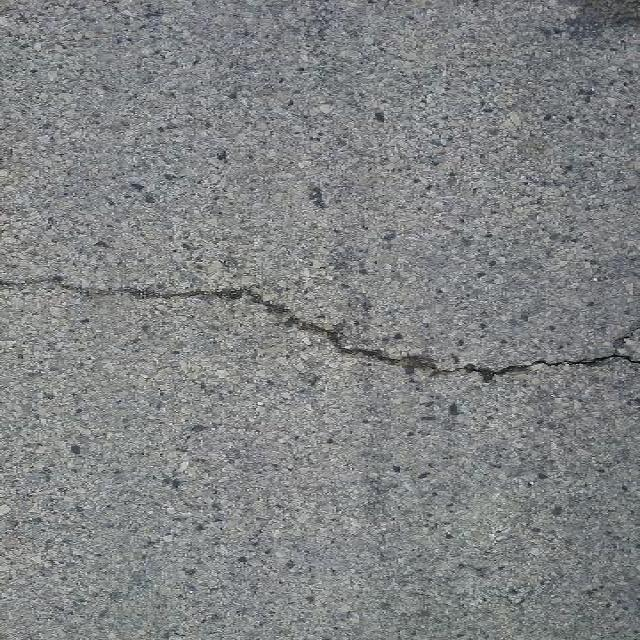Crack: (0, 270, 640, 386)
